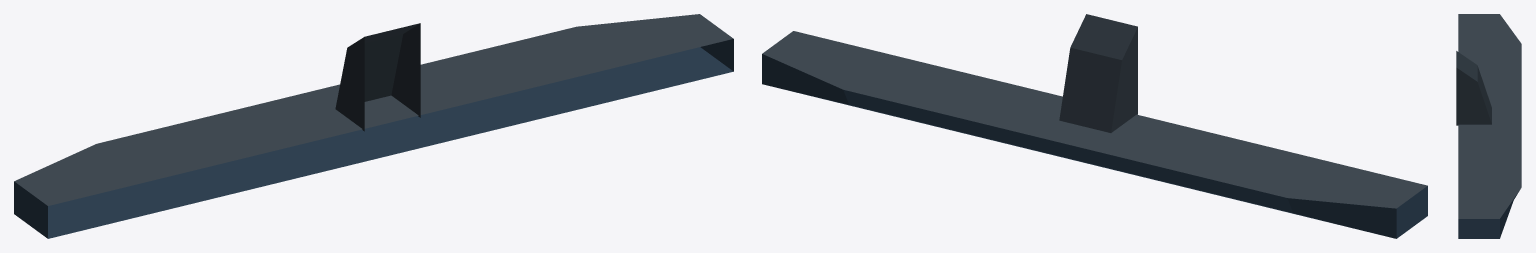
Rendered from low-lamp.fbx.
The picture shows the model from 3 angles, left to right: view 1: azimuth 30°, elevation 25°; view 2: azimuth 150°, elevation 25°; view 3: azimuth 270°, elevation 25°; orthographic projection. The views are drawn at different scales.
Visible parts, largest first — view 1: low-lamp; view 2: low-lamp; view 3: low-lamp.
Part boxes in pixels (x1,y1,x2,y2): low-lamp: [14, 14, 733, 238]; low-lamp: [762, 14, 1427, 238]; low-lamp: [1456, 14, 1521, 238].
Size of the model in its own units: 6.12 by 0.8259 by 1.08.
